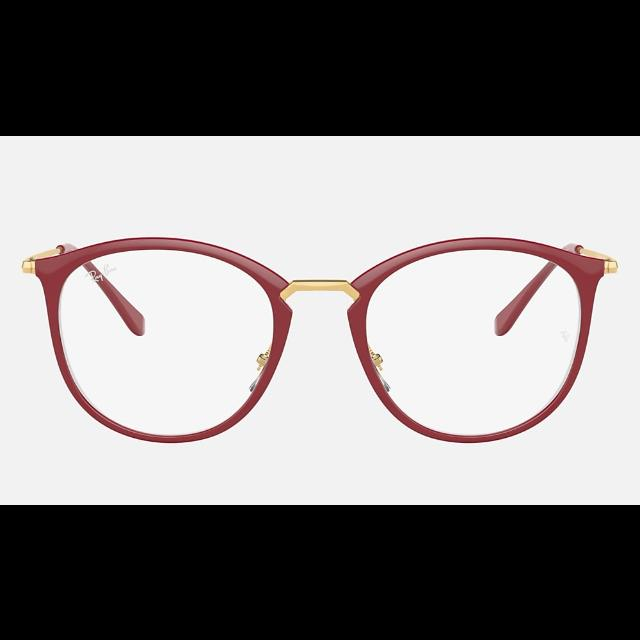glasses: (23, 236, 617, 444)
